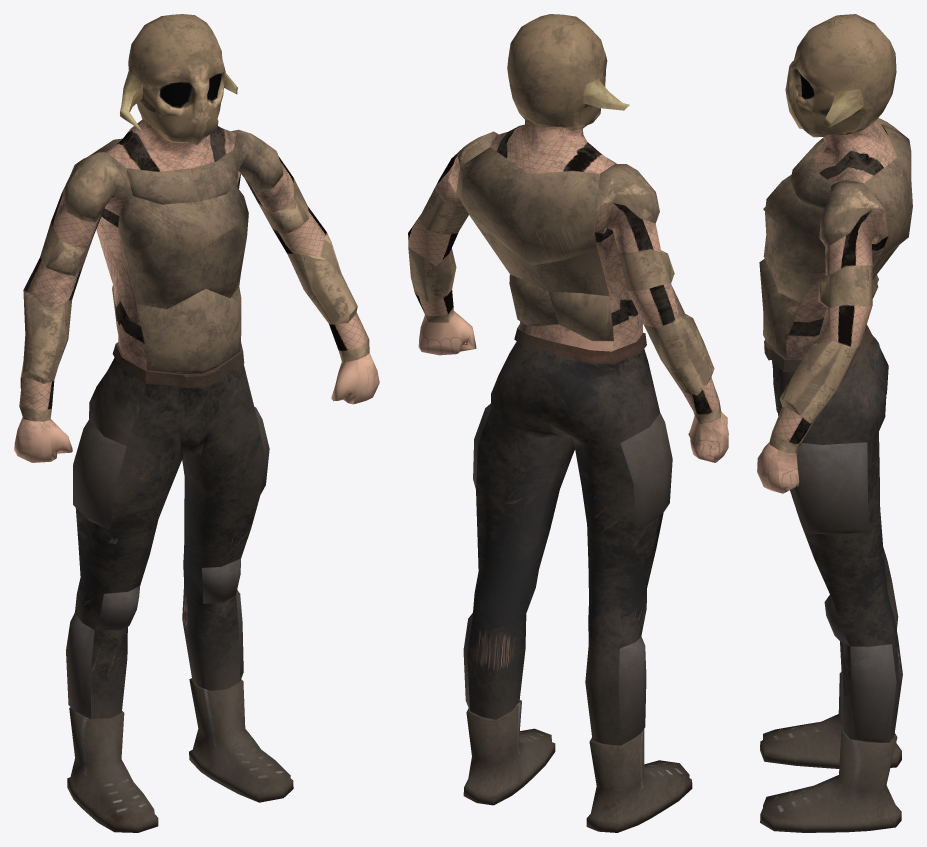
File: Anim_idle_npc1.0055.obj
3 renders of one model, left to right at view 1: azimuth 30°, elevation 25°; view 2: azimuth 150°, elevation 25°; view 3: azimuth 270°, elevation 25°, orthographic.
Visible parts, largest first — view 1: NPC2; view 2: NPC2; view 3: NPC2.
Part boxes in pixels (bbox=[...]): NPC2: bbox=[14, 14, 379, 832]; NPC2: bbox=[408, 14, 728, 832]; NPC2: bbox=[757, 14, 912, 832].
Bounding box in the file's own units: 4.35 × 9.66 × 1.76.
